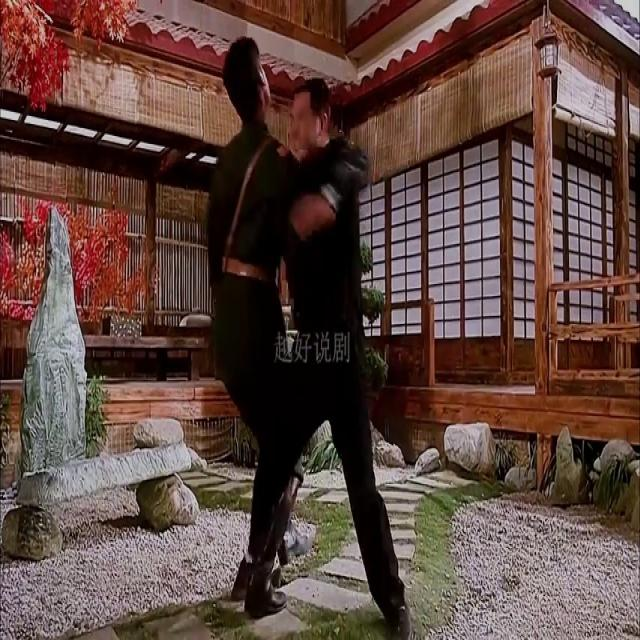fight: (210, 32, 387, 639)
